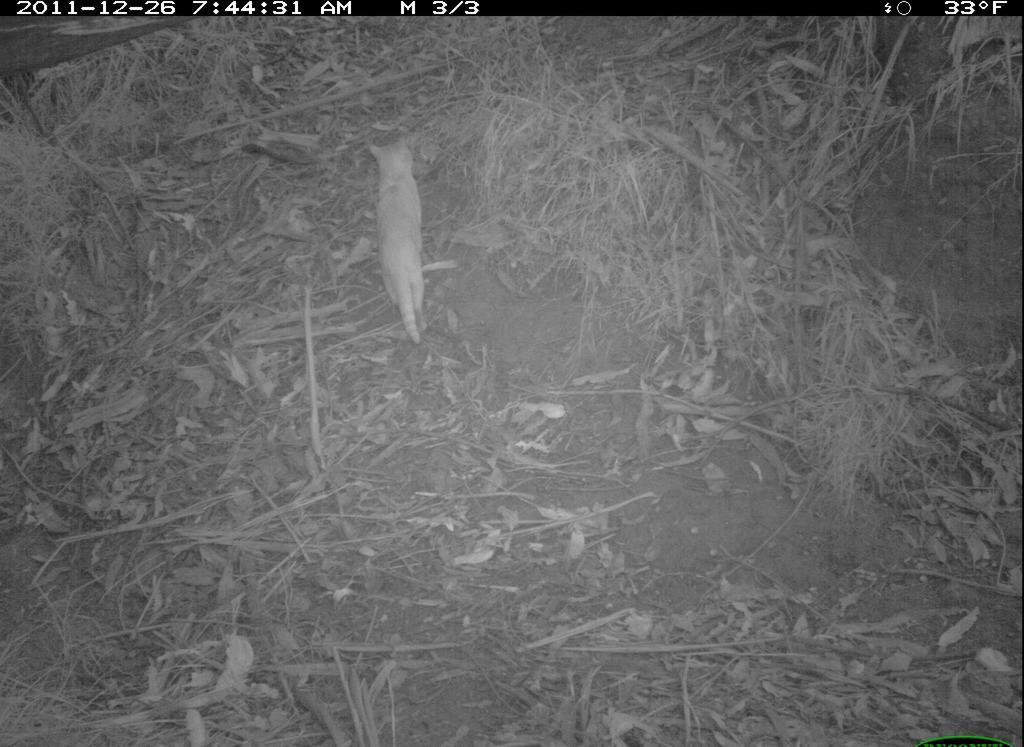cat: (358, 122, 442, 353)
